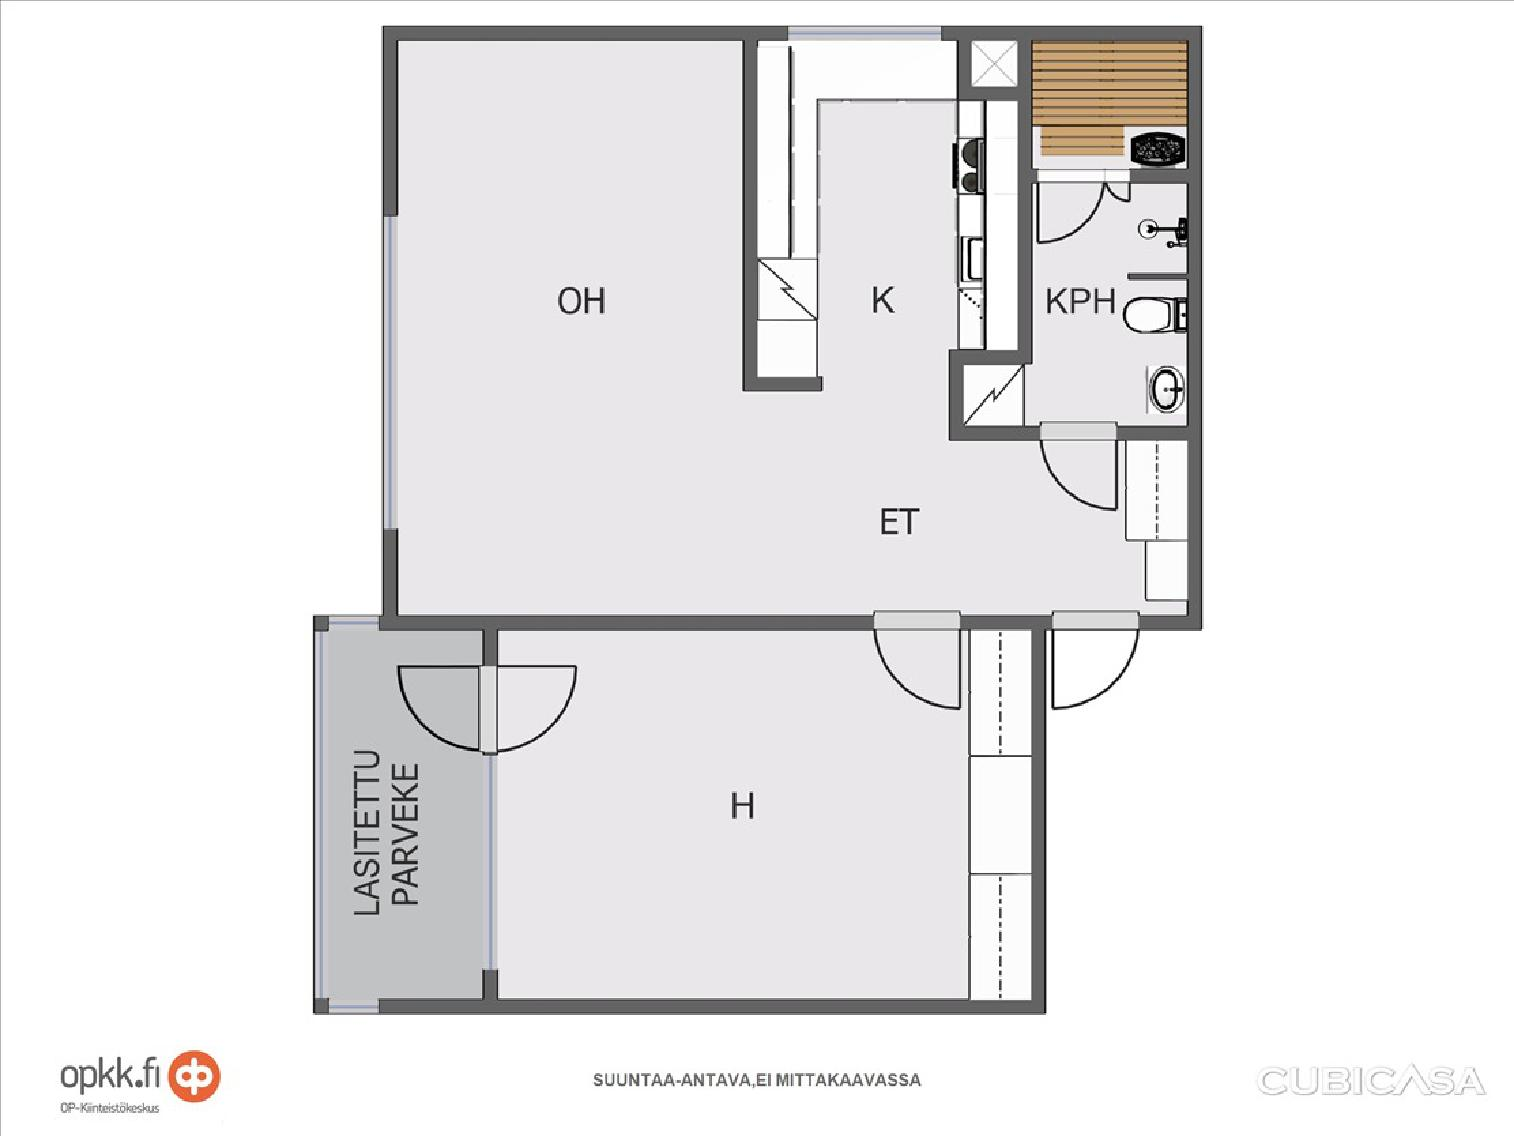door: (503, 629, 1037, 998), (320, 625, 486, 1004), (378, 654, 605, 763), (1045, 604, 1144, 720), (872, 609, 968, 720), (1038, 416, 1130, 524), (1030, 172, 1099, 249), (1096, 172, 1127, 200)
window: (381, 223, 397, 529), (784, 16, 943, 44), (330, 1004, 373, 1021), (332, 616, 377, 632)
zone: (398, 37, 1185, 616), (1034, 185, 1178, 426), (1027, 33, 1184, 174)
